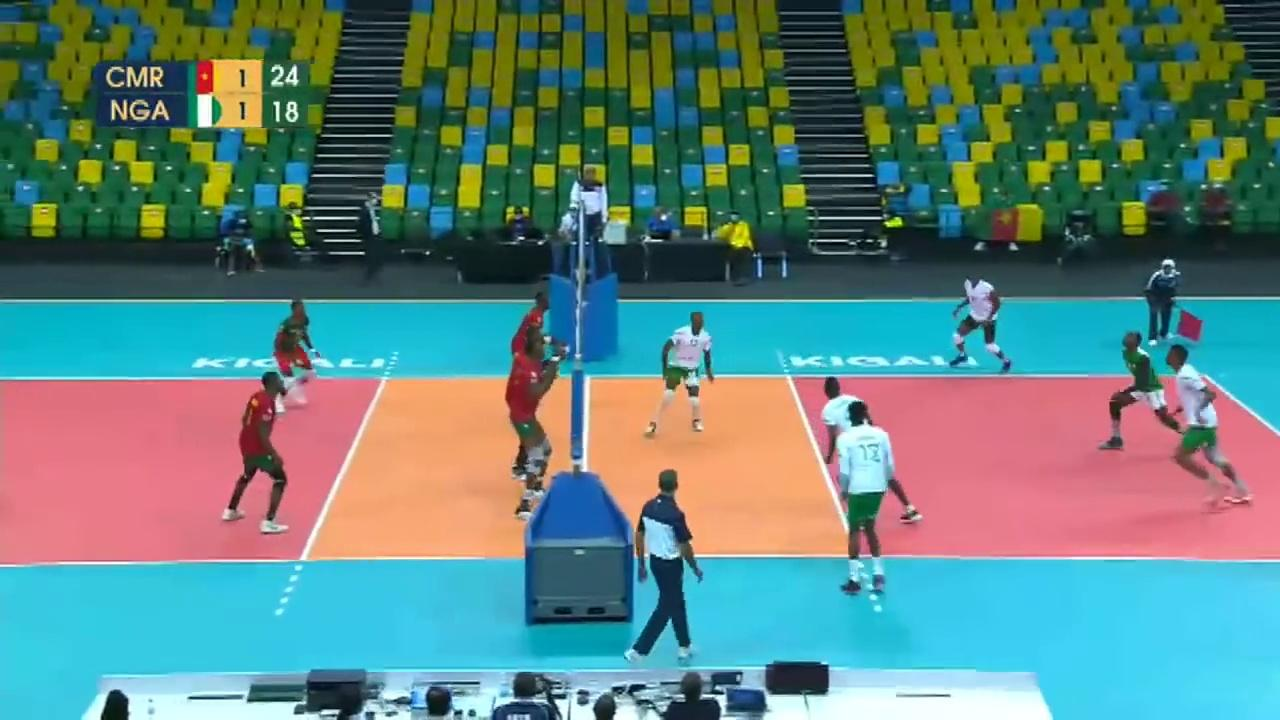player: (817, 373, 923, 526), (1161, 345, 1248, 504), (834, 397, 896, 604), (221, 371, 292, 532), (1105, 333, 1197, 449), (646, 313, 715, 433), (513, 341, 559, 516), (511, 326, 552, 482), (953, 270, 1012, 368), (508, 286, 553, 413), (271, 301, 315, 414)
refree: (624, 472, 705, 658), (569, 163, 609, 269), (1148, 258, 1184, 346)
